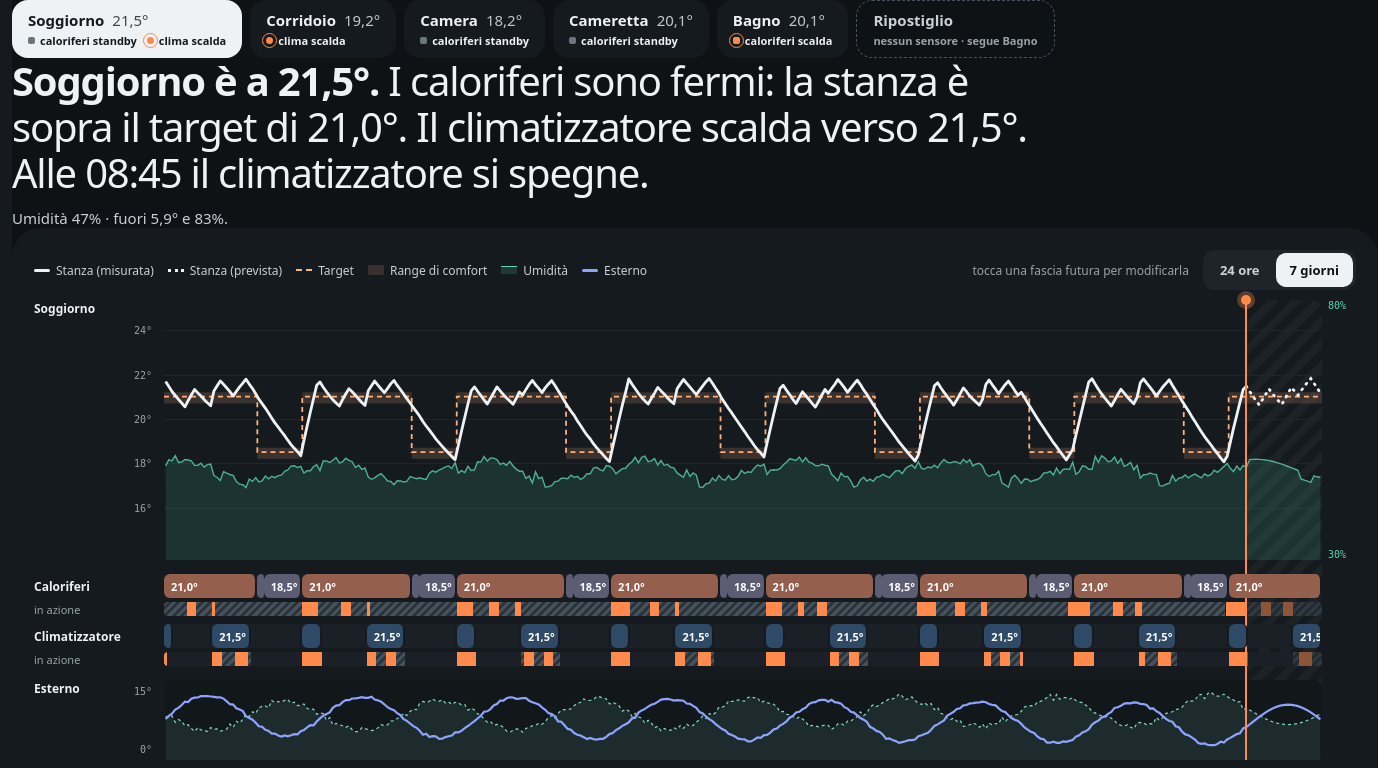
Test: thermogram cursor › shows the day of past samples in 7 days
Step 1. Focus the slider named "Cursore del grafico" → (743,430), box [164,300,1322,560]
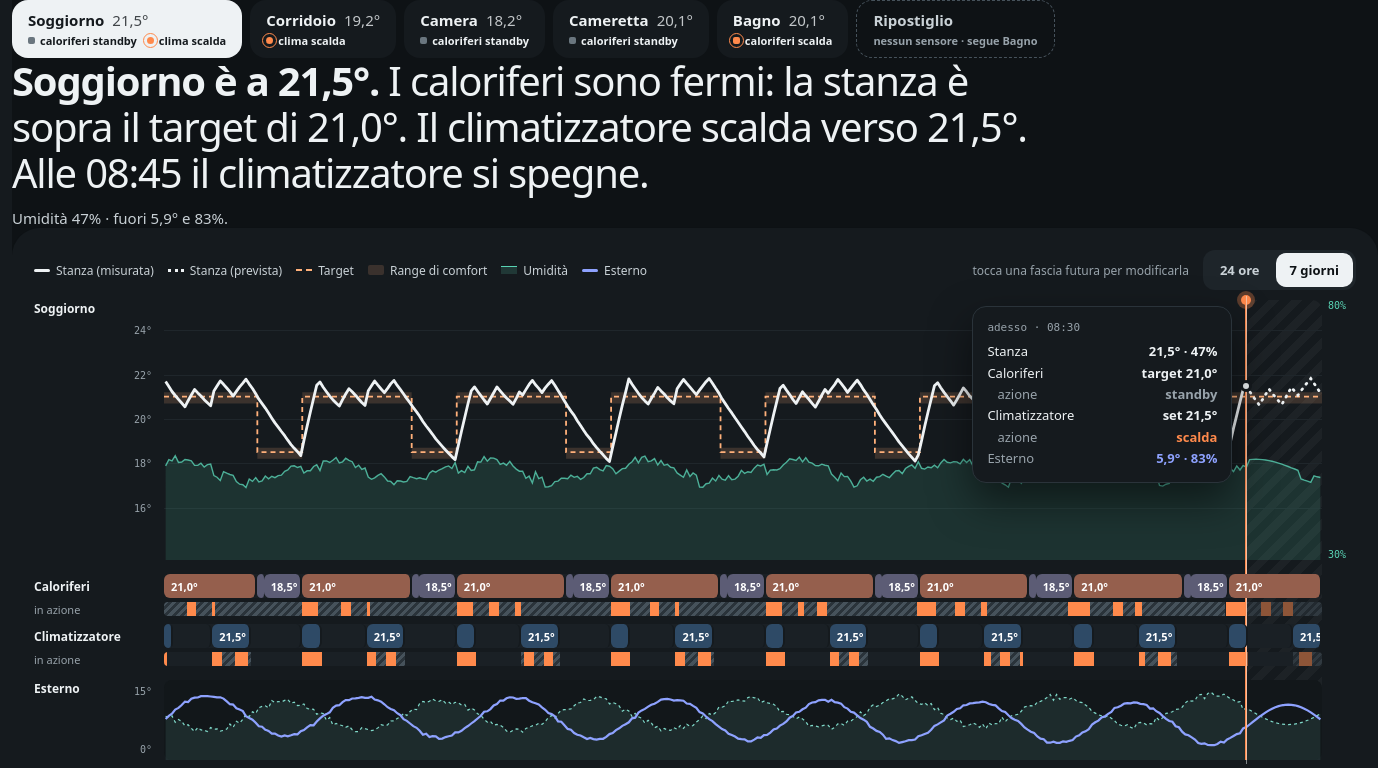
Step 2. Press Home in the slider named "Cursore del grafico", box [164,300,1322,560]
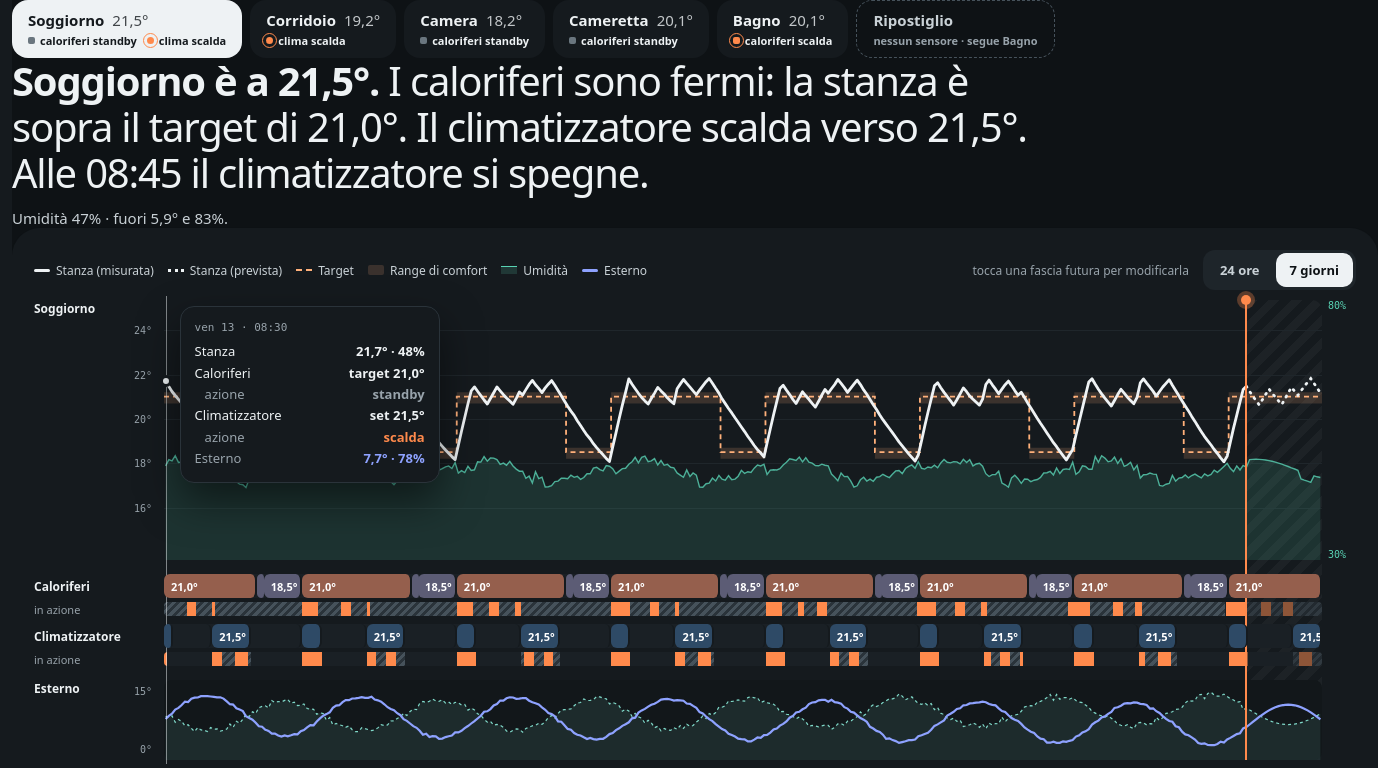
Result: the element with test id "cursor-tooltip" shows "ven 13 · 08:30" at [195,321,287,334]
